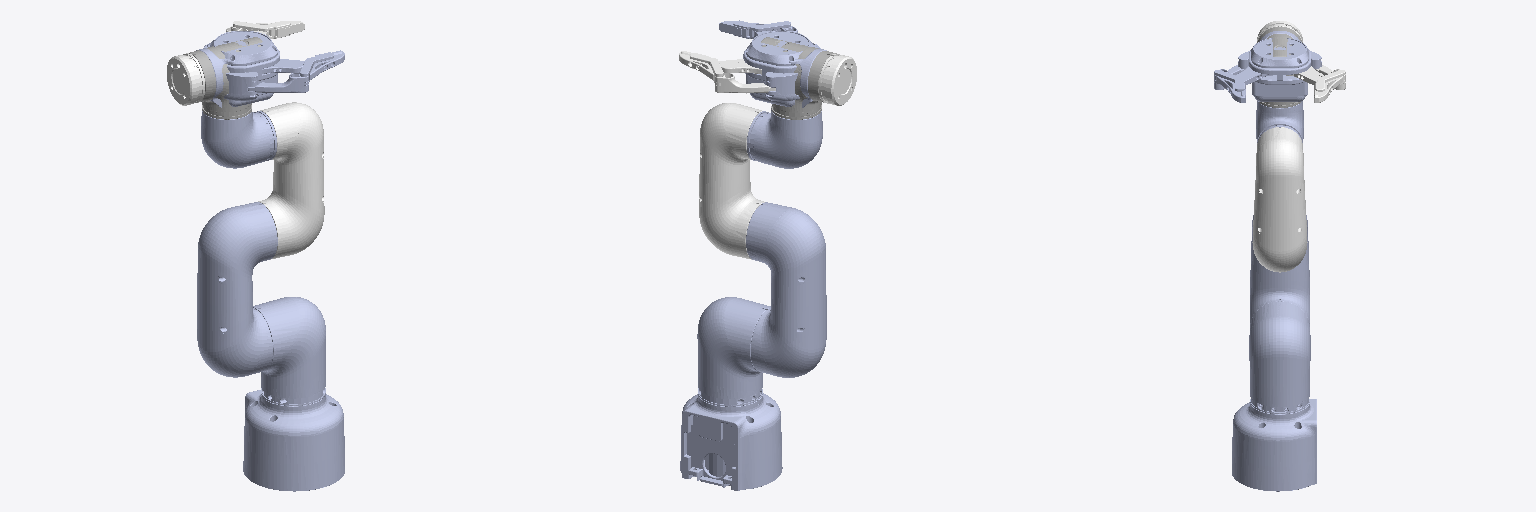
robot.urdf — mycobot320:
<?xml version="1.0" encoding="utf-8"?>
<!-- This URDF was automatically created by SolidWorks to URDF Exporter! Originally created by [author] ([email redacted]) 
     Commit Version: 1.6.0-4-g7f85cfe  Build Version: 1.6.7995.38578
     For more information, please see http://wiki.ros.org/sw_urdf_exporter -->
<robot
  name="mycobot320">
  <link
    name="base_link">
    <inertial>
      <origin
        xyz="-0.00011316 -0.00064841 0.050784"
        rpy="0 0 0" />
      <mass
        value="0.49016" />
      <inertia
        ixx="0.0007219"
        ixy="-1.6581E-08"
        ixz="4.359E-08"
        iyy="0.0007639"
        iyz="-2.3045E-05"
        izz="0.00059257" />
    </inertial>
    <visual>
      <origin
        xyz="0 0 0"
        rpy="0 0 0" />
      <geometry>
        <mesh
          filename="package://mycobot320/meshes/base_link.STL" />
      </geometry>
      <material
        name="">
        <color
          rgba="0.79216 0.81961 0.93333 1" />
      </material>
    </visual>
    <collision>
      <origin
        xyz="0 0 0"
        rpy="0 0 0" />
      <geometry>
        <mesh
          filename="package://mycobot320/meshes/base_link.STL" />
      </geometry>
    </collision>
  </link>
  <link
    name="link1">
    <inertial>
      <origin
        xyz="-0.02633 0.067544 5.7626E-05"
        rpy="0 0 0" />
      <mass
        value="0.33893" />
      <inertia
        ixx="0.00039957"
        ixy="8.1532E-05"
        ixz="1.886E-07"
        iyy="0.00038022"
        iyz="-3.167E-07"
        izz="0.00051379" />
    </inertial>
    <visual>
      <origin
        xyz="0 0 0"
        rpy="0 0 0" />
      <geometry>
        <mesh
          filename="package://mycobot320/meshes/link1.STL" />
      </geometry>
      <material
        name="">
        <color
          rgba="0.79216 0.81961 0.93333 1" />
      </material>
    </visual>
    <collision>
      <origin
        xyz="0 0 0"
        rpy="0 0 0" />
      <geometry>
        <mesh
          filename="package://mycobot320/meshes/link1.STL" />
      </geometry>
    </collision>
  </link>
  <joint
    name="joint1"
    type="fixed">
    <origin
      xyz="0 0 0.0982"
      rpy="1.5708 0 0" />
    <parent
      link="base_link" />
    <child
      link="link1" />
    <axis
      xyz="0 0 0" />
  </joint>
  <link
    name="link2">
    <inertial>
      <origin
        xyz="3.46584550481202E-06 0.0868812966256574 -0.032041949441266"
        rpy="0 0 0" />
      <mass
        value="0.412119447138893" />
      <inertia
        ixx="0.0015156435749529"
        ixy="-1.07497425229525E-07"
        ixz="3.93745916157643E-07"
        iyy="0.000276870111749155"
        iyz="-0.000187518436891766"
        izz="0.00154439869575864" />
    </inertial>
    <visual>
      <origin
        xyz="0 0 0"
        rpy="0 0 0" />
      <geometry>
        <mesh
          filename="package://mycobot320/meshes/link2.STL" />
      </geometry>
      <material
        name="">
        <color
          rgba="0.792156862745098 0.819607843137255 0.933333333333333 1" />
      </material>
    </visual>
    <collision>
      <origin
        xyz="0 0 0"
        rpy="0 0 0" />
      <geometry>
        <mesh
          filename="package://mycobot320/meshes/link2.STL" />
      </geometry>
    </collision>
  </link>
  <joint
    name="joint2"
    type="fixed">
    <origin
      xyz="-0.04018 0.0775 0"
      rpy="0 1.5708 0" />
    <parent
      link="link1" />
    <child
      link="link2" />
    <axis
      xyz="0 0 0" />
  </joint>
  <link
    name="link3">
    <inertial>
      <origin
        xyz="0.000115331123347555 0.0550042476717326 -0.0317882920246424"
        rpy="0 0 0" />
      <mass
        value="0.318683574959014" />
      <inertia
        ixx="0.00106564822126082"
        ixy="-2.36005323920728E-06"
        ixz="8.78691963592541E-09"
        iyy="0.000162080248917063"
        iyz="-2.24758762629514E-05"
        izz="0.00109799349281935" />
    </inertial>
    <visual>
      <origin
        xyz="0 0 0"
        rpy="0 0 0" />
      <geometry>
        <mesh
          filename="package://mycobot320/meshes/link3.STL" />
      </geometry>
      <material
        name="">
        <color
          rgba="1 1 1 1" />
      </material>
    </visual>
    <collision>
      <origin
        xyz="0 0 0"
        rpy="0 0 0" />
      <geometry>
        <mesh
          filename="package://mycobot320/meshes/link3.STL" />
      </geometry>
    </collision>
  </link>
  <joint
    name="joint3"
    type="fixed">
    <origin
      xyz="0 0.135 -0.0006"
      rpy="3.1416 0 -3.1416" />
    <parent
      link="link2" />
    <child
      link="link3" />
    <axis
      xyz="0 0 0" />
  </joint>
  <link
    name="link4">
    <inertial>
      <origin
        xyz="0.000236953834969225 -0.0128369015360003 -0.031293796217304"
        rpy="0 0 0" />
      <mass
        value="0.154504253587915" />
      <inertia
        ixx="0.000148140603696462"
        ixy="-4.37170644376766E-07"
        ixz="8.37911267998156E-08"
        iyy="0.000111396212730727"
        iyz="-3.49735449933672E-05"
        izz="0.000111306777219453" />
    </inertial>
    <visual>
      <origin
        xyz="0 0 0"
        rpy="0 0 0" />
      <geometry>
        <mesh
          filename="package://mycobot320/meshes/link4.STL" />
      </geometry>
      <material
        name="">
        <color
          rgba="0.792156862745098 0.819607843137255 0.933333333333333 1" />
      </material>
    </visual>
    <collision>
      <origin
        xyz="0 0 0"
        rpy="0 0 0" />
      <geometry>
        <mesh
          filename="package://mycobot320/meshes/link4.STL" />
      </geometry>
    </collision>
  </link>
  <joint
    name="joint4"
    type="fixed">
    <origin
      xyz="0 0.168 0.047"
      rpy="1.5708 0 3.1416" />
    <parent
      link="link3" />
    <child
      link="link4" />
    <axis
      xyz="0 0 0" />
  </joint>
  <link
    name="link5">
    <inertial>
      <origin
        xyz="5.6674E-07 -0.0078484 -0.038288"
        rpy="0 0 0" />
      <mass
        value="0.24363" />
      <inertia
        ixx="0.00022288"
        ixy="1.0067E-08"
        ixz="1.4733E-08"
        iyy="0.00017607"
        iyz="-1.8556E-05"
        izz="0.00015752" />
    </inertial>
    <visual>
      <origin
        xyz="0 0 0"
        rpy="0 0 0" />
      <geometry>
        <mesh
          filename="package://mycobot320/meshes/link5.STL" />
      </geometry>
      <material
        name="">
        <color
          rgba="0.75294 0.75294 0.75294 1" />
      </material>
    </visual>
    <collision>
      <origin
        xyz="0 0 0"
        rpy="0 0 0" />
      <geometry>
        <mesh
          filename="package://mycobot320/meshes/link5.STL" />
      </geometry>
    </collision>
  </link>
  <joint
    name="joint5"
    type="fixed">
    <origin
      xyz="0 0.048 0.047"
      rpy="1.5708 0 -3.1416" />
    <parent
      link="link4" />
    <child
      link="link5" />
    <axis
      xyz="0 0 0" />
  </joint>
  <link
    name="link6">
    <inertial>
      <origin
        xyz="-1.9766E-08 -0.0090006 -9.9913E-05"
        rpy="0 0 0" />
      <mass
        value="0.040103" />
      <inertia
        ixx="9.6762E-06"
        ixy="-4.0575E-12"
        ixz="1.8209E-11"
        iyy="1.7513E-05"
        iyz="2.0454E-08"
        izz="9.811E-06" />
    </inertial>
    <visual>
      <origin
        xyz="0 0 0"
        rpy="0 0 0" />
      <geometry>
        <mesh
          filename="package://mycobot320/meshes/link6.STL" />
      </geometry>
      <material
        name="">
        <color
          rgba="1 1 1 1" />
      </material>
    </visual>
    <collision>
      <origin
        xyz="0 0 0"
        rpy="0 0 0" />
      <geometry>
        <mesh
          filename="package://mycobot320/meshes/link6.STL" />
      </geometry>
    </collision>
  </link>
  <joint
    name="joint6"
    type="fixed">
    <origin
      xyz="0 0 0.0165"
      rpy="1.5708 0 3.1416" />
    <parent
      link="link5" />
    <child
      link="link6" />
    <axis
      xyz="0 0 0" />
  </joint>
  <link
    name="gripper1">
    <inertial>
      <origin
        xyz="-0.0064801 -0.00010156 0.058745"
        rpy="0 0 0" />
      <mass
        value="0.17175" />
      <inertia
        ixx="0.00014323"
        ixy="1.4077E-07"
        ixz="3.257E-06"
        iyy="7.8037E-05"
        iyz="-1.5107E-07"
        izz="0.00010844" />
    </inertial>
    <visual>
      <origin
        xyz="0 0 0"
        rpy="0 0 0" />
      <geometry>
        <mesh
          filename="package://mycobot320/meshes/gripper1.STL" />
      </geometry>
      <material
        name="">
        <color
          rgba="0.79608 0.82353 0.93725 1" />
      </material>
    </visual>
    <collision>
      <origin
        xyz="0 0 0"
        rpy="0 0 0" />
      <geometry>
        <mesh
          filename="package://mycobot320/meshes/gripper1.STL" />
      </geometry>
    </collision>
  </link>
  <joint
    name="joint7"
    type="fixed">
    <origin
      xyz="0 -0.0165 0"
      rpy="1.5708 -1.5708 0" />
    <parent
      link="link6" />
    <child
      link="gripper1" />
    <axis
      xyz="0 0 0" />
  </joint>
  <link
    name="gripper2">
    <inertial>
      <origin
        xyz="0.0048806 0.047524 0.10754"
        rpy="0 0 0" />
      <mass
        value="0.032959" />
      <inertia
        ixx="1.1566E-05"
        ixy="-1.5232E-07"
        ixz="-2.8243E-07"
        iyy="8.1001E-06"
        iyz="-6.8263E-07"
        izz="4.3743E-06" />
    </inertial>
    <visual>
      <origin
        xyz="0 0 0"
        rpy="0 0 0" />
      <geometry>
        <mesh
          filename="package://mycobot320/meshes/gripper2.STL" />
      </geometry>
      <material
        name="">
        <color
          rgba="0.79608 0.82353 0.93725 1" />
      </material>
    </visual>
    <collision>
      <origin
        xyz="0 0 0"
        rpy="0 0 0" />
      <geometry>
        <mesh
          filename="package://mycobot320/meshes/gripper2.STL" />
      </geometry>
    </collision>
  </link>
  <joint
    name="joint8"
    type="revolute">
    <origin
      xyz="0 0 0"
      rpy="0 0 0" />
    <parent
      link="gripper1" />
    <child
      link="gripper2" />
    <axis
      xyz="-1 0 0" />
    <limit
      lower="0"
      upper="0"
      effort="0"
      velocity="0" />
  </joint>
  <link
    name="gripper3">
    <inertial>
      <origin
        xyz="0.0048377 -0.047524 0.10754"
        rpy="0 0 0" />
      <mass
        value="0.032959" />
      <inertia
        ixx="1.1566E-05"
        ixy="1.5102E-07"
        ixz="-2.8232E-07"
        iyy="8.1001E-06"
        iyz="6.8263E-07"
        izz="4.3742E-06" />
    </inertial>
    <visual>
      <origin
        xyz="0 0 0"
        rpy="0 0 0" />
      <geometry>
        <mesh
          filename="package://mycobot320/meshes/gripper3.STL" />
      </geometry>
      <material
        name="">
        <color
          rgba="1 1 1 1" />
      </material>
    </visual>
    <collision>
      <origin
        xyz="0 0 0"
        rpy="0 0 0" />
      <geometry>
        <mesh
          filename="package://mycobot320/meshes/gripper3.STL" />
      </geometry>
    </collision>
  </link>
  <joint
    name="joint9"
    type="revolute">
    <origin
      xyz="0 0 0"
      rpy="0 0 0" />
    <parent
      link="gripper1" />
    <child
      link="gripper3" />
    <axis
      xyz="-1 0 0" />
    <limit
      lower="0"
      upper="0"
      effort="0"
      velocity="0" />
  </joint>
</robot>

--- What the picture shows (computed from the rendered views, not written in the file) ---
Views: 3 orthographic renders of the robot side by side, from view 1: azimuth 30°, elevation 25°; view 2: azimuth 150°, elevation 25°; view 3: azimuth 270°, elevation 25°.
Robot: mycobot320 — 10 links, 9 joints (2 revolute, 7 fixed); root link base_link; default pose: all joints at 0.
Links seen in each view (by area): view 1: link2, base_link, link3, link1, gripper1, link4, gripper2, link5, link6, gripper3; view 2: link2, base_link, link3, link1, gripper1, link4, gripper3, link5, link6, gripper2; view 3: link3, base_link, link1, gripper1, link2, link4, gripper3, gripper2, link5.
Link boxes in pixels (bbox=[...]): link2: bbox=[197, 202, 277, 377]; base_link: bbox=[243, 390, 344, 491]; link3: bbox=[258, 102, 324, 259]; link1: bbox=[253, 297, 325, 405]; gripper1: bbox=[196, 31, 279, 107]; link4: bbox=[201, 111, 276, 168]; gripper2: bbox=[248, 50, 344, 92]; link5: bbox=[189, 37, 262, 119]; link6: bbox=[167, 53, 204, 105]; gripper3: bbox=[226, 21, 304, 38]; link2: bbox=[746, 202, 826, 377]; base_link: bbox=[680, 393, 782, 490]; link3: bbox=[699, 103, 764, 259]; link1: bbox=[697, 297, 770, 406]; gripper1: bbox=[743, 31, 826, 107]; link4: bbox=[747, 110, 822, 168]; gripper3: bbox=[679, 51, 775, 93]; link5: bbox=[761, 37, 836, 119]; link6: bbox=[818, 54, 856, 105]; gripper2: bbox=[719, 20, 797, 38]; link3: bbox=[1252, 127, 1307, 272]; base_link: bbox=[1232, 399, 1316, 491]; link1: bbox=[1249, 302, 1310, 413]; gripper1: bbox=[1238, 31, 1321, 101]; link2: bbox=[1250, 215, 1309, 322]; link4: bbox=[1256, 101, 1303, 142]; gripper3: bbox=[1286, 65, 1345, 102]; gripper2: bbox=[1214, 65, 1272, 102]; link5: bbox=[1257, 26, 1302, 107].
Bounding box of the posed robot: 0.2109 × 0.1648 × 0.5559 m (x, y, z).
10 mesh visuals loaded from 10 distinct referenced files (10 binary STL).